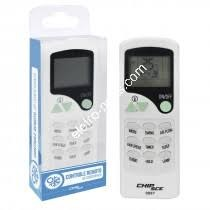remote control: (122, 40, 178, 199)
